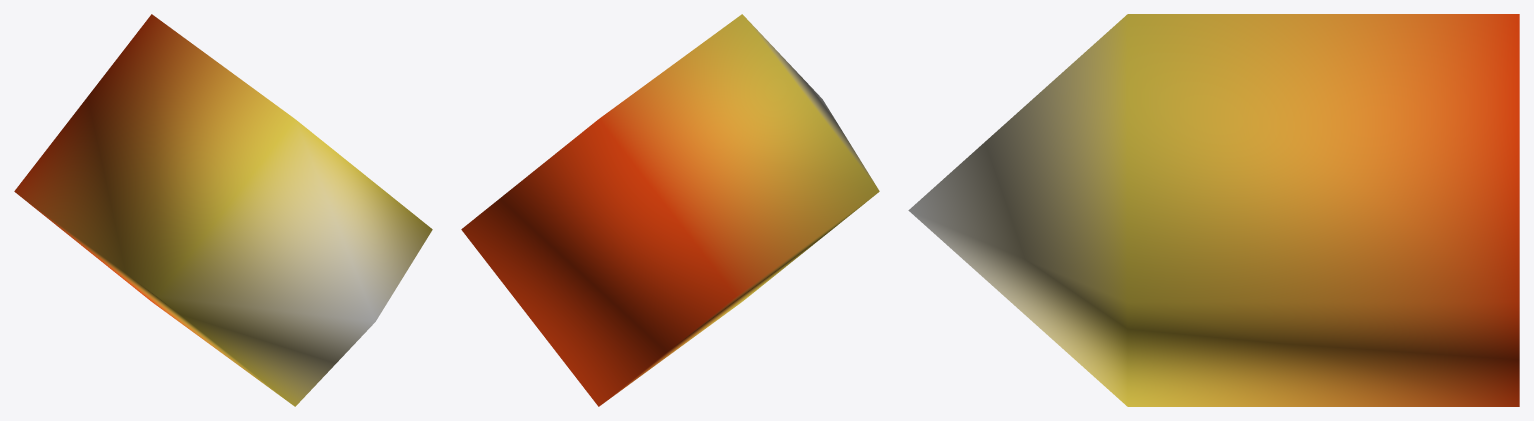
The model's file is bullet.glb.
3 views of the same model, side by side, from view 1: azimuth 30°, elevation 25°; view 2: azimuth 150°, elevation 25°; view 3: azimuth 270°, elevation 25° (orthographic). The views are drawn at different scales.
Visible parts, largest first — view 1: tankbullet; view 2: tankbullet; view 3: tankbullet.
Boxes of the visible parts, <box> form: tankbullet: <box>14,14,432,406</box>; tankbullet: <box>461,14,879,406</box>; tankbullet: <box>908,14,1519,406</box>.
Size of the model in its own units: 0.2795 by 0.2795 by 0.3939.
